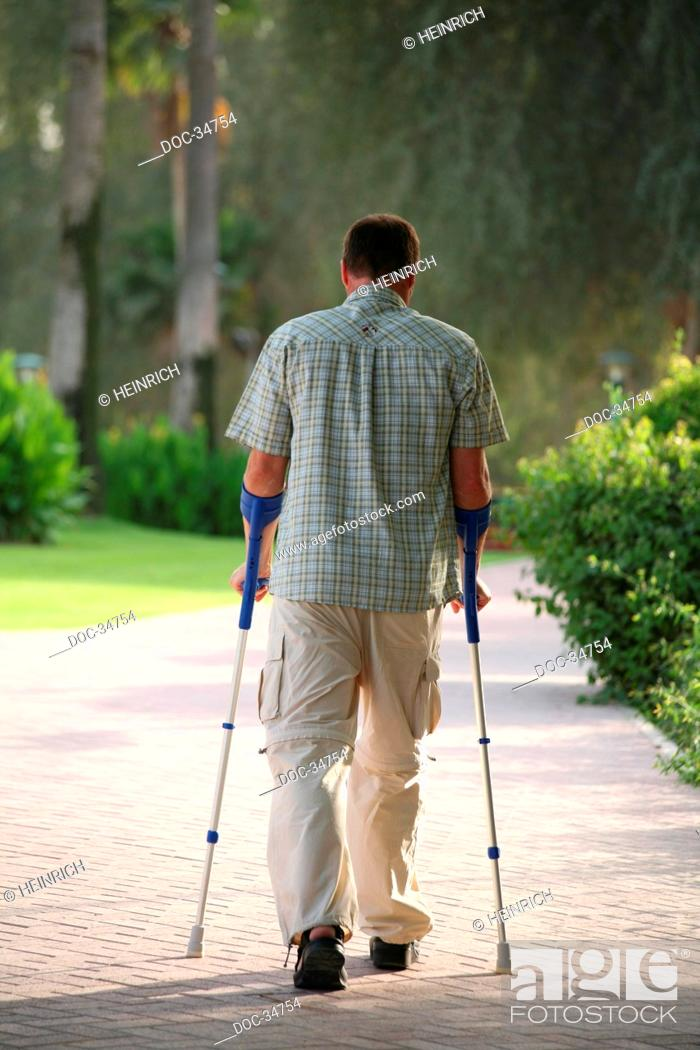crutches: (185, 210, 514, 996)
